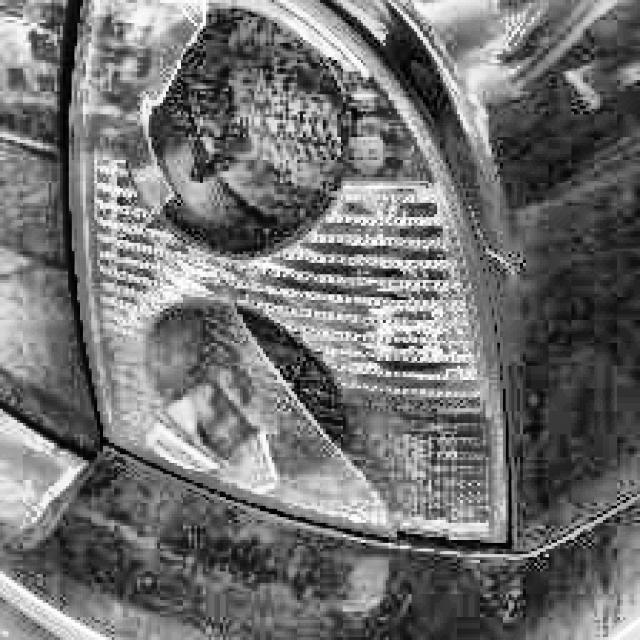tail_lamp: (161, 13, 441, 497)
